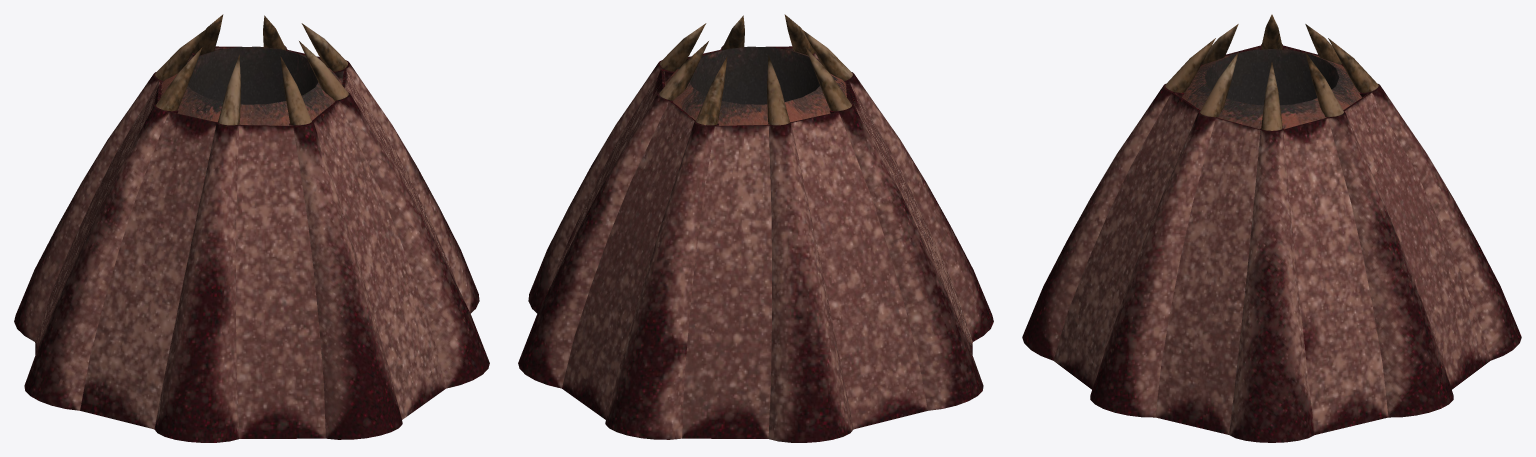
Rendered from tent.fbx.
3 views of the same model, side by side, from view 1: azimuth 30°, elevation 25°; view 2: azimuth 150°, elevation 25°; view 3: azimuth 270°, elevation 25° (orthographic). The views are drawn at different scales.
Parts seen in each view (by area): view 1: Mouth4; view 2: Mouth4; view 3: Mouth4.
Boxes of the visible parts, x1=… form: Mouth4: x1=14, y1=14, x2=489, y2=442; Mouth4: x1=518, y1=14, x2=993, y2=442; Mouth4: x1=1022, y1=14, x2=1521, y2=442.
Bounding box in the file's own units: 1.52 × 1.19 × 1.52.
